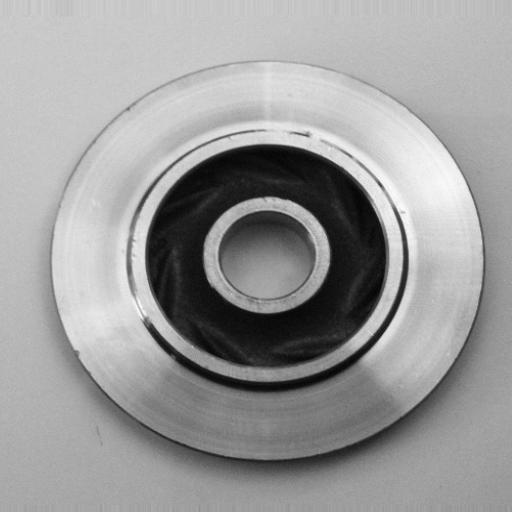scratch: (114, 266, 164, 338), (269, 116, 342, 153)
unpolished_casting: (48, 59, 486, 463)
